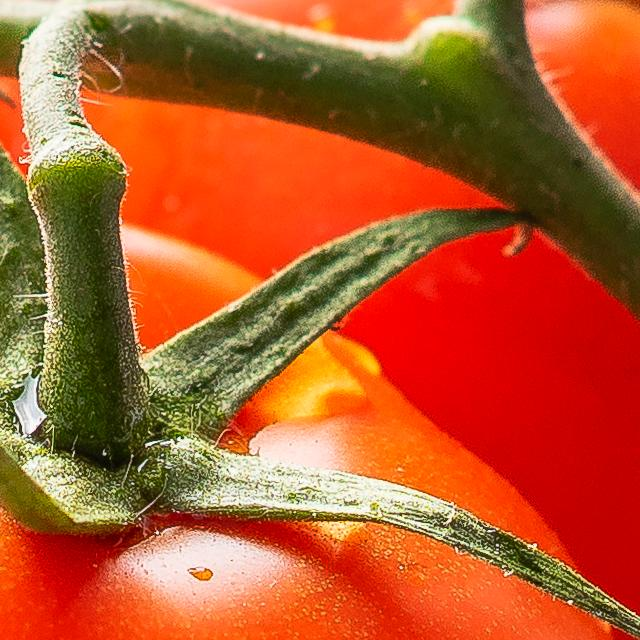tomato: (357, 258, 640, 591), (229, 334, 564, 556), (136, 106, 457, 277), (133, 233, 264, 341)
